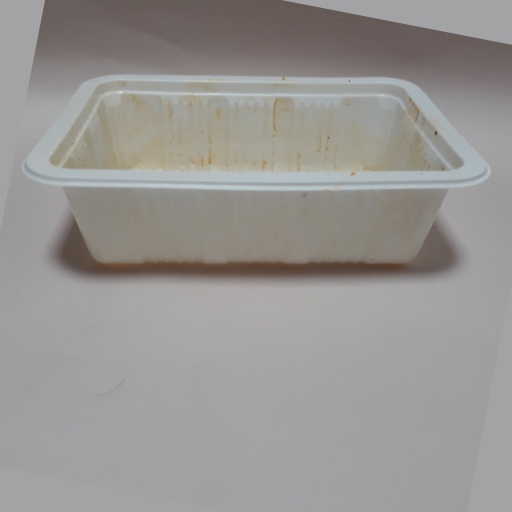Plastic_4: (23, 74, 493, 271)
